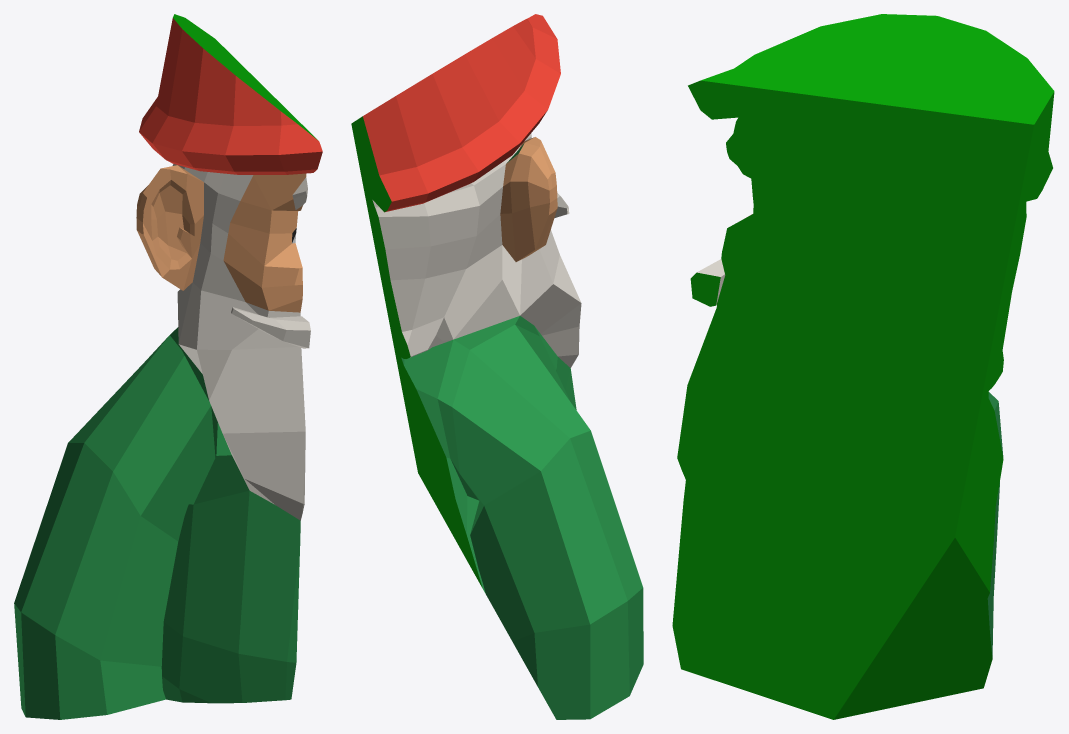
The model's file is Shard06.fbx.
3 views of the same model, side by side, from view 1: azimuth 30°, elevation 25°; view 2: azimuth 150°, elevation 25°; view 3: azimuth 270°, elevation 25° (orthographic). The views are drawn at different scales.
Visible parts, largest first — view 1: Gnome_Geo_shard6; view 2: Gnome_Geo_shard6; view 3: Gnome_Geo_shard6.
Part boxes in pixels (x1,y1,x2,y2): Gnome_Geo_shard6: (14, 14, 322, 719); Gnome_Geo_shard6: (351, 14, 643, 719); Gnome_Geo_shard6: (672, 14, 1054, 719).
Bounding box in the file's own units: 12.06 × 31.2 × 14.67.
